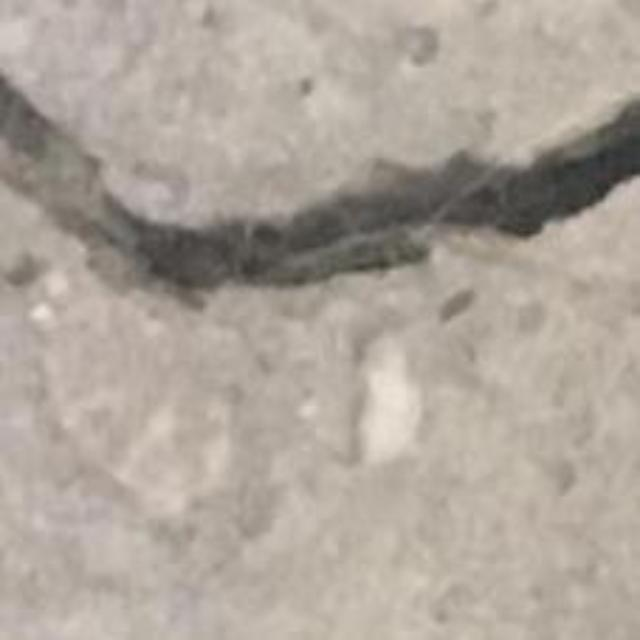crack: (0, 74, 639, 304)
